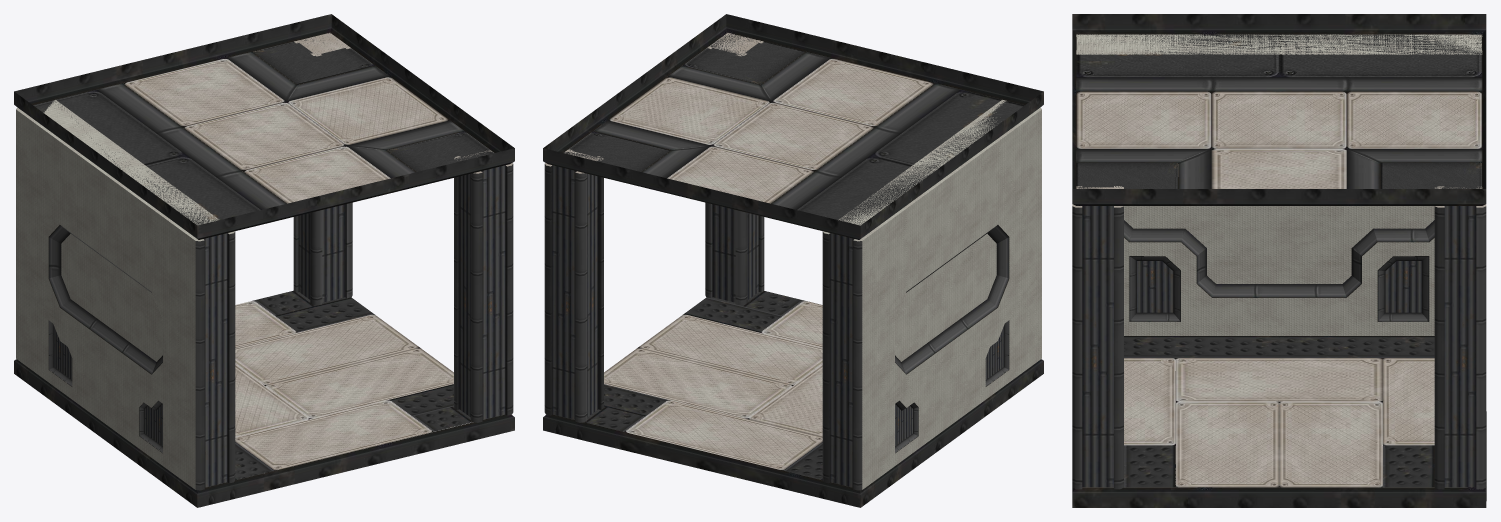
File: Corridor_Fork_Rework.fbx
3 renders of one model, left to right at view 1: azimuth 30°, elevation 25°; view 2: azimuth 150°, elevation 25°; view 3: azimuth 270°, elevation 25°, orthographic. The views are drawn at different scales.
Parts seen in each view (by area): view 1: Corridor_Fork_Rework; view 2: Corridor_Fork_Rework; view 3: Corridor_Fork_Rework.
Part boxes in pixels (<box>): Corridor_Fork_Rework: <box>14,14,514,507</box>; Corridor_Fork_Rework: <box>543,14,1043,507</box>; Corridor_Fork_Rework: <box>1072,14,1486,507</box>.
Bounding box in the file's own units: 400 × 340 × 400.
